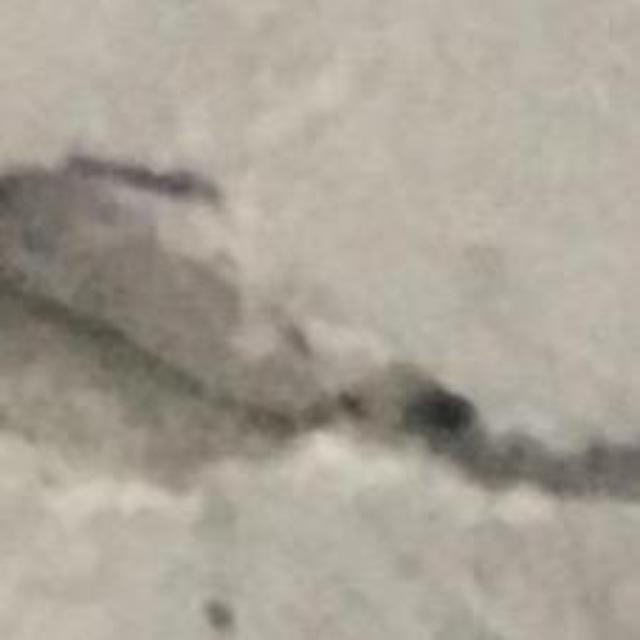crack: (0, 158, 639, 499)
